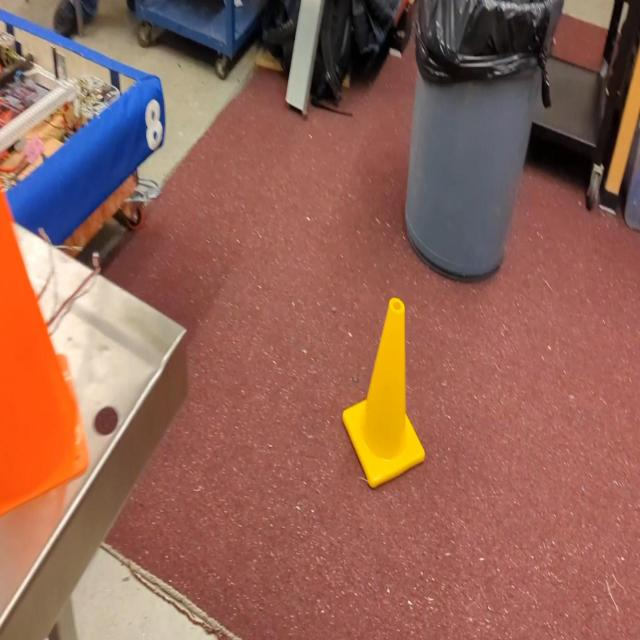frc_cone: (341, 296, 426, 492)
